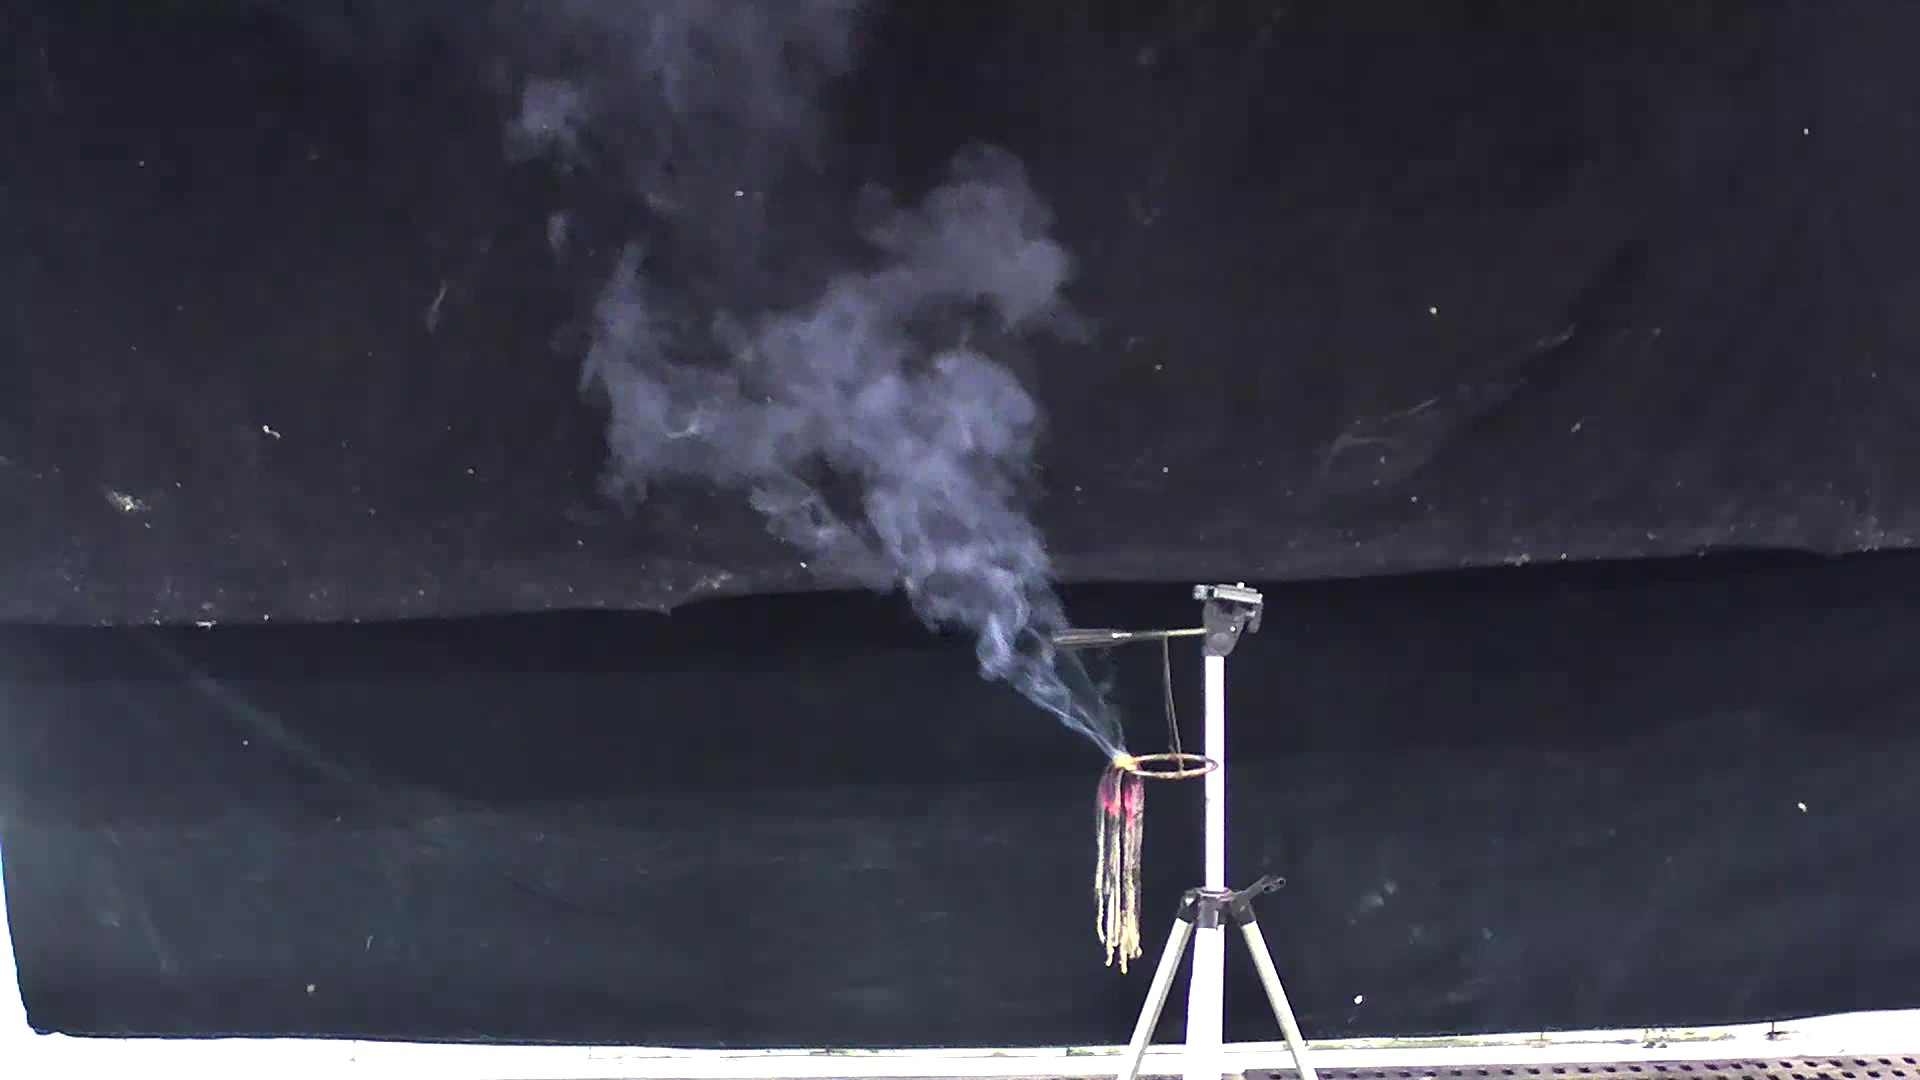smoke: (487, 13, 1129, 761)
